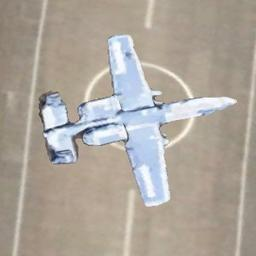Airplane: (37, 33, 237, 207)
